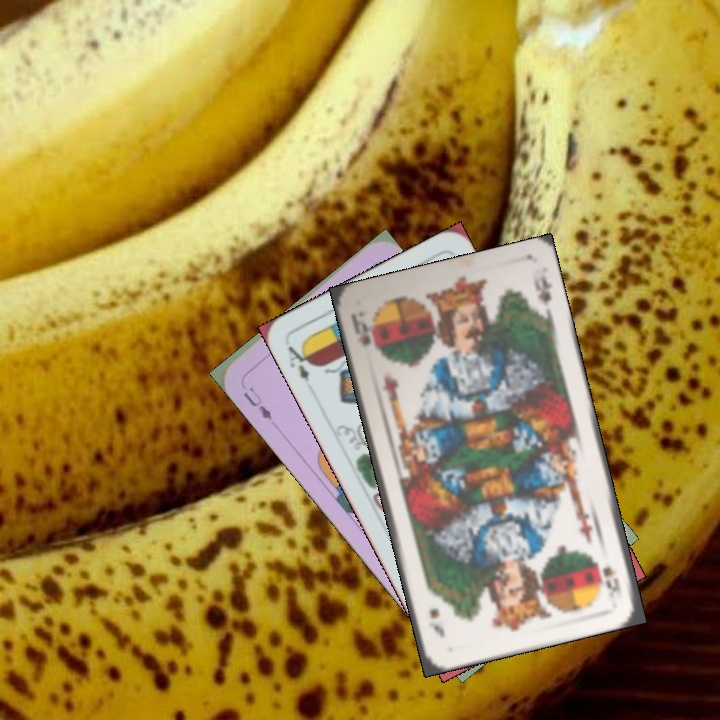EA: (283, 337, 317, 384)
EU: (239, 383, 275, 423)
SK: (347, 309, 379, 353), (598, 562, 625, 601)
